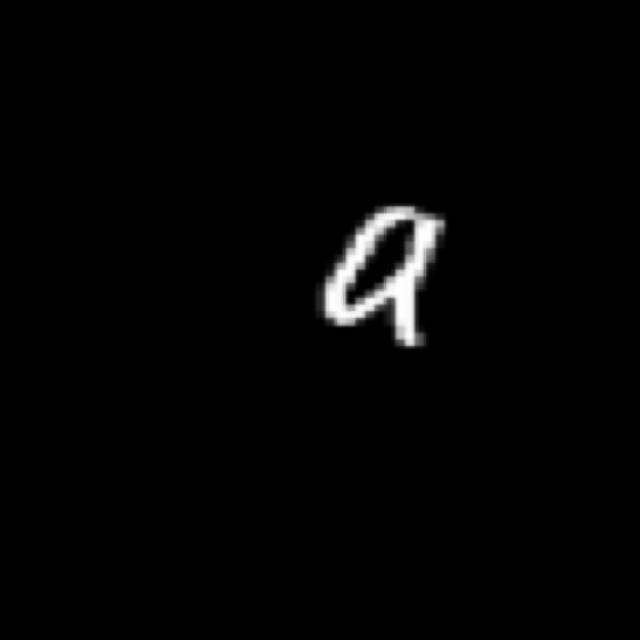nine -9-: (306, 198, 450, 356)
